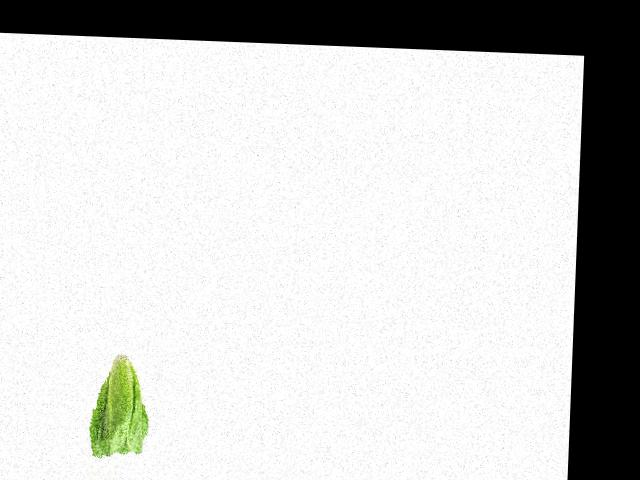lettuce: (85, 354, 158, 460)
